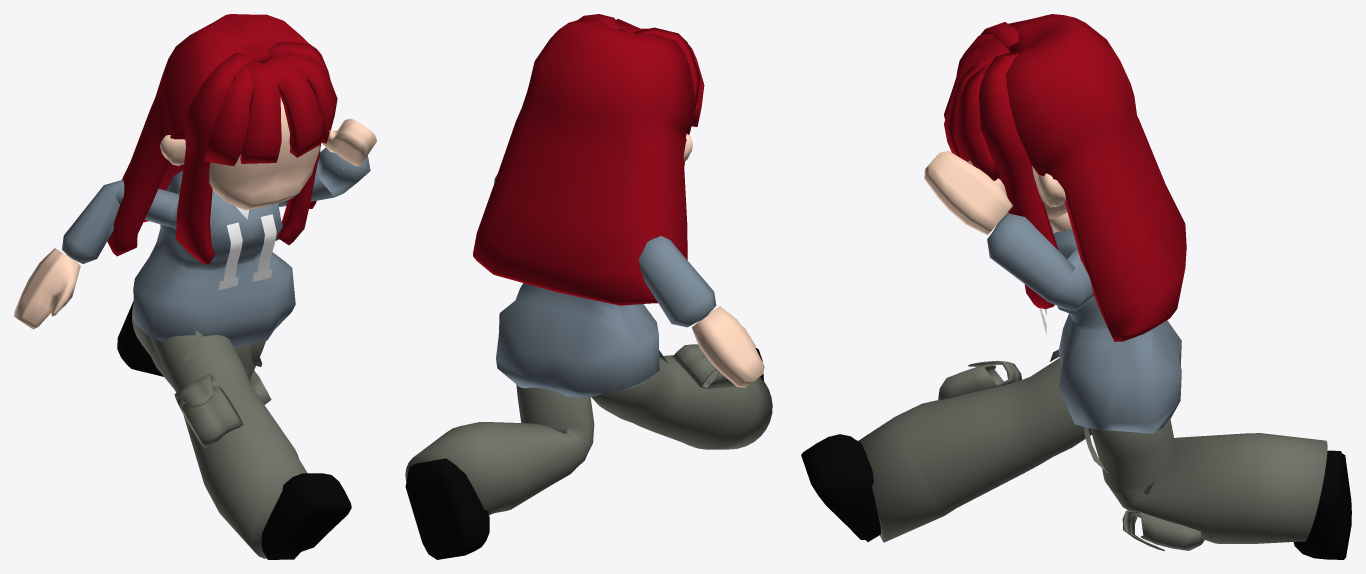
File: umi_run_0.glb
3 views of the same model, side by side, from view 1: azimuth 30°, elevation 25°; view 2: azimuth 150°, elevation 25°; view 3: azimuth 270°, elevation 25° (orthographic). The views are drawn at different scales.
Visible parts, largest first — view 1: sweater, pants, hair.003, hair.001, feet, hair, hand, head, hair.002, bolsillo, Plane, ear; view 2: hair.003, pants, sweater, feet, hand, bolsillo, hair.001; view 3: pants, hair.003, sweater, feet, hair.001, hand, bolsillo, hair.002, hair.
Part boxes in pixels (<box>): sweater: <box>62,148,370,348</box>; pants: <box>132,304,307,558</box>; hair.003: <box>107,14,320,256</box>; hair.001: <box>175,41,330,264</box>; feet: <box>117,300,351,559</box>; hair: <box>240,55,323,163</box>; hand: <box>14,118,376,329</box>; head: <box>209,97,319,210</box>; hair.002: <box>205,55,337,166</box>; bolsillo: <box>174,370,271,448</box>; Plane: <box>219,214,276,290</box>; ear: <box>160,135,185,165</box>; hair.003: <box>473,18,694,305</box>; pants: <box>405,355,772,514</box>; sweater: <box>494,174,716,397</box>; feet: <box>405,348,763,559</box>; hand: <box>691,306,764,387</box>; bolsillo: <box>673,344,735,388</box>; hair.001: <box>578,14,700,165</box>; pants: <box>858,358,1327,543</box>; hair.003: <box>1006,14,1186,341</box>; sweater: <box>987,213,1181,433</box>; feet: <box>801,434,1351,559</box>; hair.001: <box>979,22,1058,308</box>; hand: <box>924,151,1012,235</box>; bolsillo: <box>938,360,1204,551</box>; hair.002: <box>954,33,999,180</box>; hair: <box>944,38,1009,157</box>.
Bounding box in the file's own units: 2.74 × 4.1 × 3.85.
